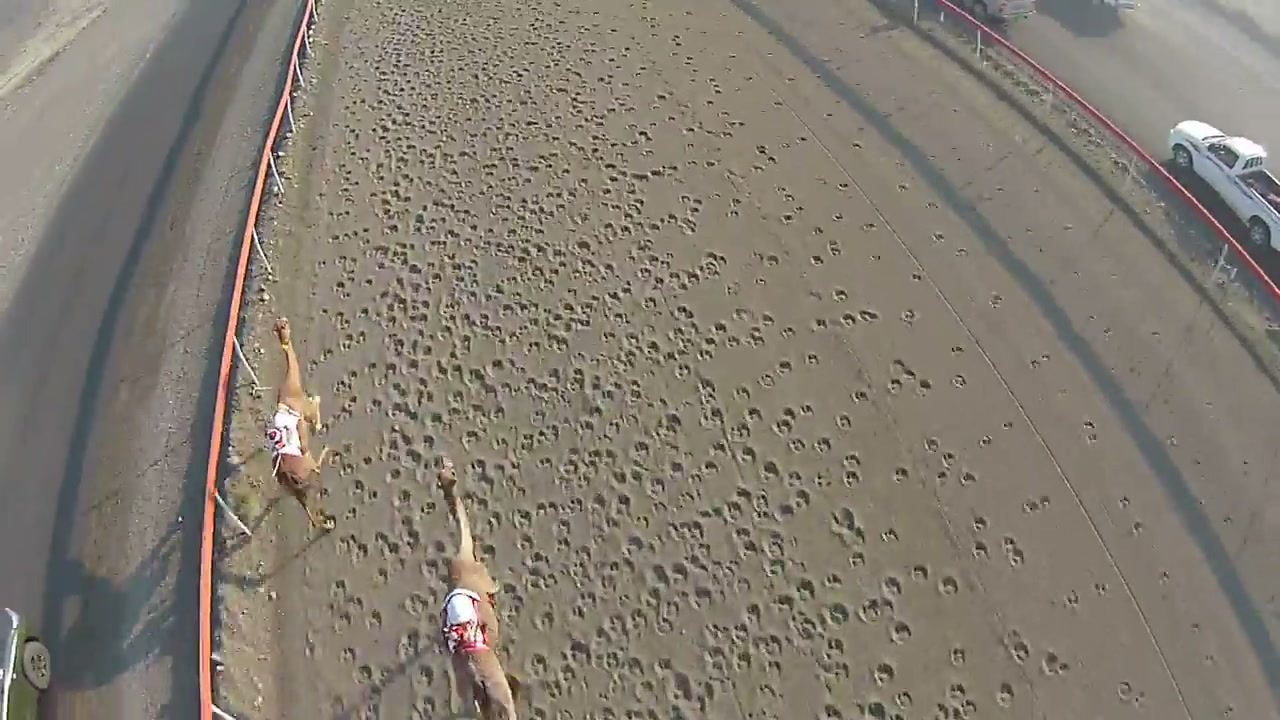animal_foot_print: (394, 18, 1042, 686), (313, 97, 437, 695)
